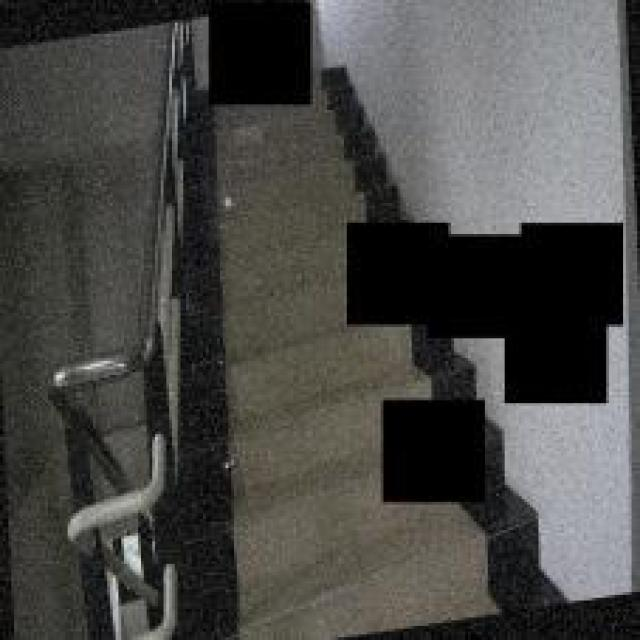upstair: (201, 139, 390, 207)
